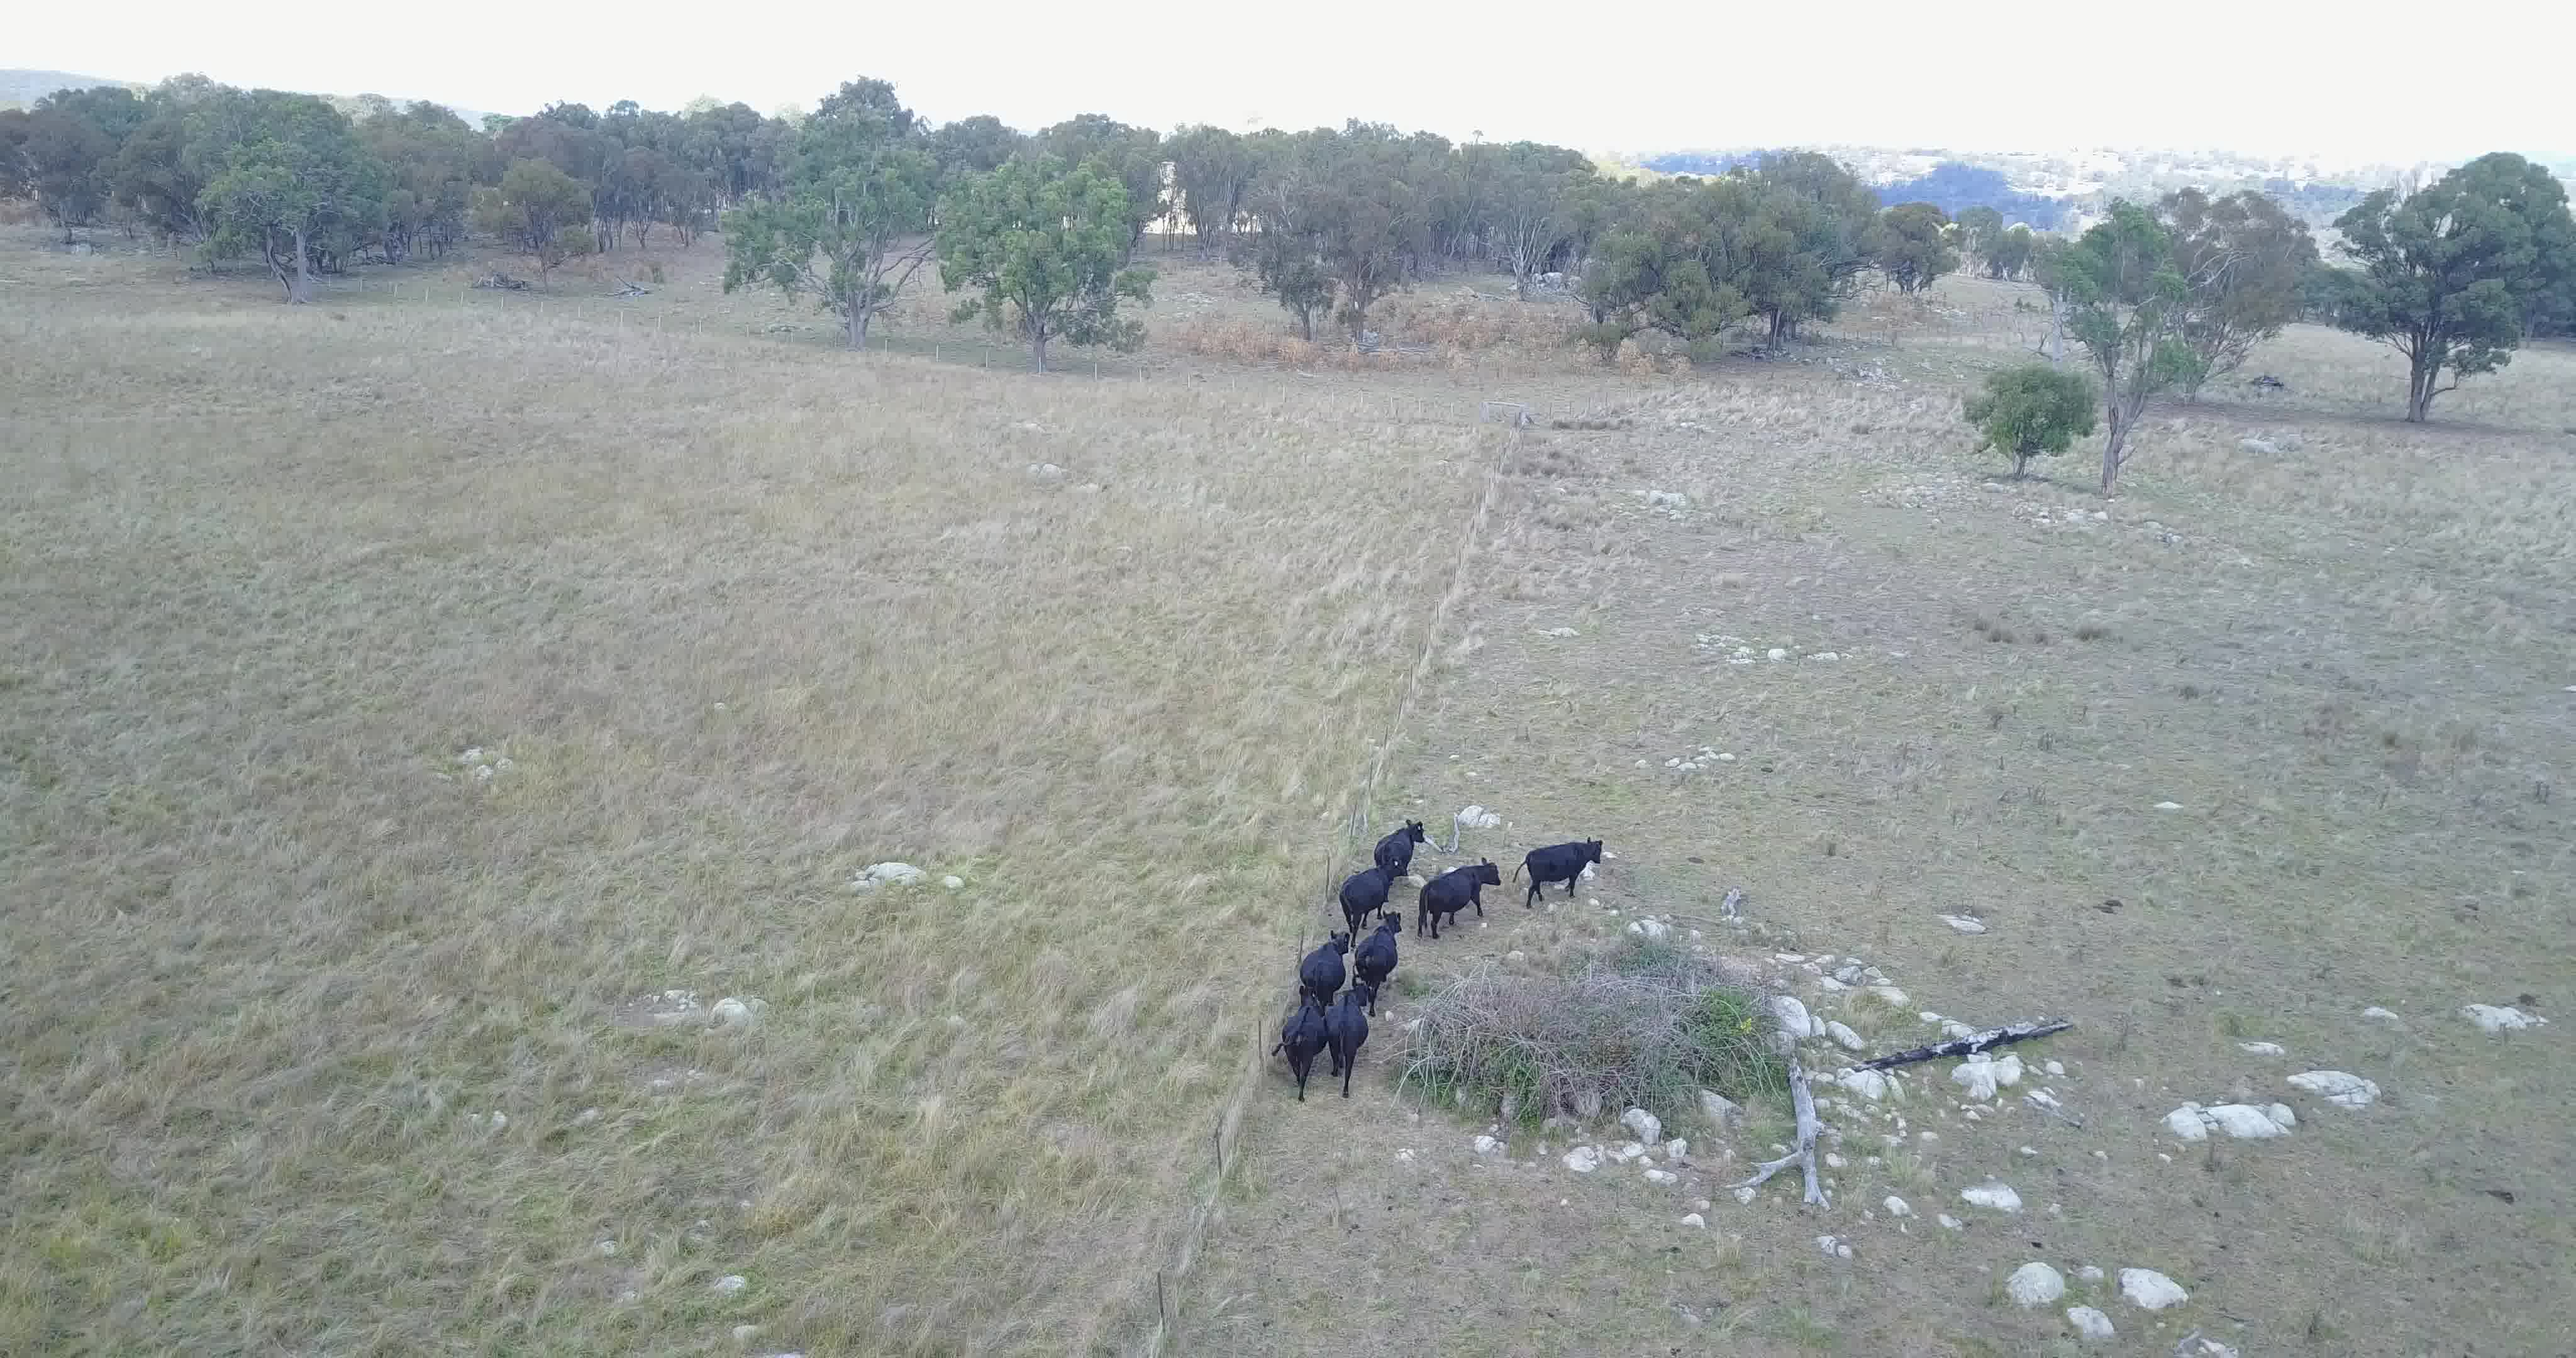cattle: (1414, 857, 1504, 944), (1271, 985, 1327, 1109), (1513, 837, 1608, 908), (1324, 981, 1371, 1101), (1353, 910, 1404, 1014), (1337, 857, 1407, 930), (1293, 929, 1351, 1009), (1370, 818, 1428, 881)
